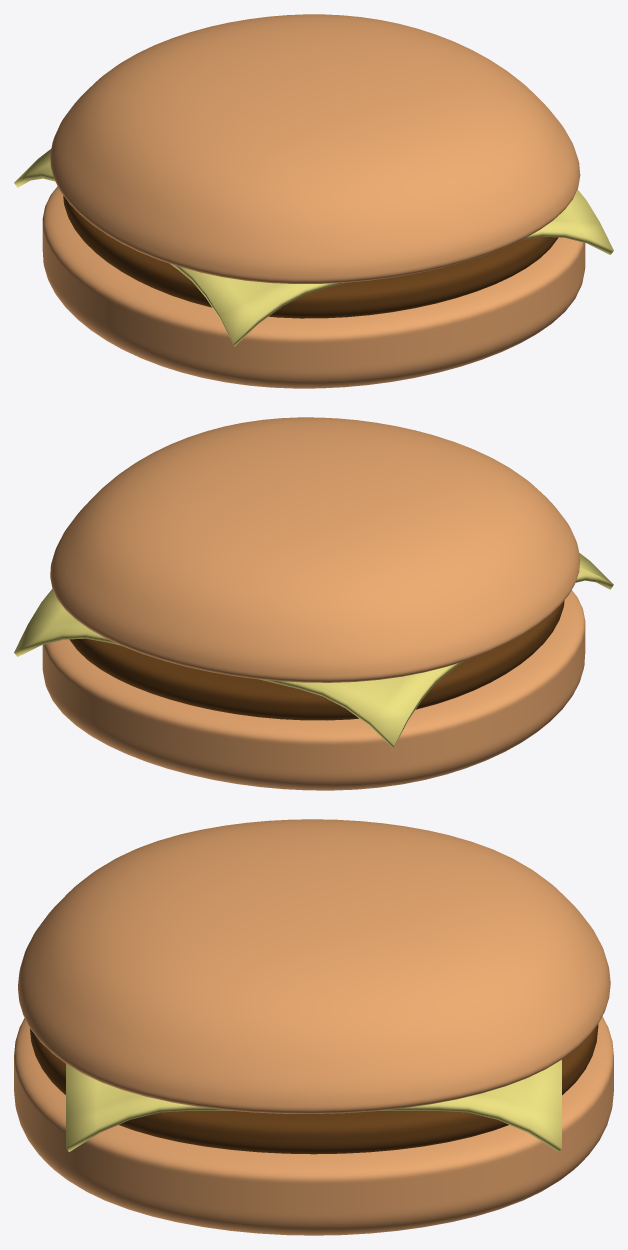
Rendered from hamburger.glb.
3 views of the same model, one above another, from view 1: azimuth 30°, elevation 25°; view 2: azimuth 150°, elevation 25°; view 3: azimuth 270°, elevation 25° (orthographic). The views are drawn at different scales.
Parts seen in each view (by area): view 1: Cube.002, Cube, Cube.001, Plane; view 2: Cube.002, Cube, Cube.001, Plane; view 3: Cube.002, Cube, Cube.001, Plane.
Part boxes in pixels (x1,y1,x2,y2): Cube.002: (50, 14, 580, 283); Cube: (42, 186, 585, 388); Cube.001: (63, 196, 558, 318); Plane: (14, 149, 613, 346); Cube.002: (50, 417, 580, 682); Cube: (42, 590, 585, 790); Cube.001: (69, 600, 564, 720); Plane: (14, 552, 613, 748); Cube.002: (18, 819, 610, 1113); Cube: (14, 1016, 613, 1235); Cube.001: (30, 1024, 598, 1154); Plane: (66, 1059, 561, 1151).
Bounding box in the file's own units: 9.03 × 4.34 × 9.03.
